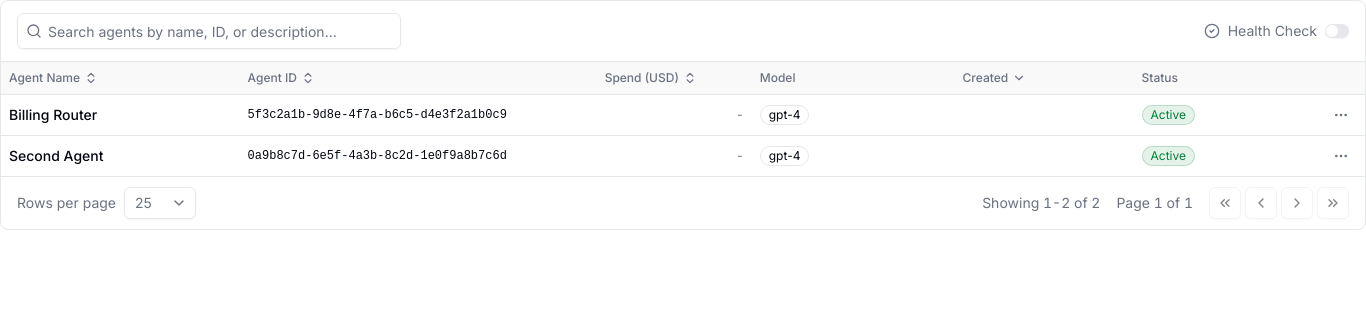
Scenario: AgentsTable › filters agents by a pasted agent_id so only that agent's row survives
Step 1. Click the field with placeholder "Search agents by name, ID, or description..." → point(221, 31), box x1=42 y1=13 x2=400 y2=49
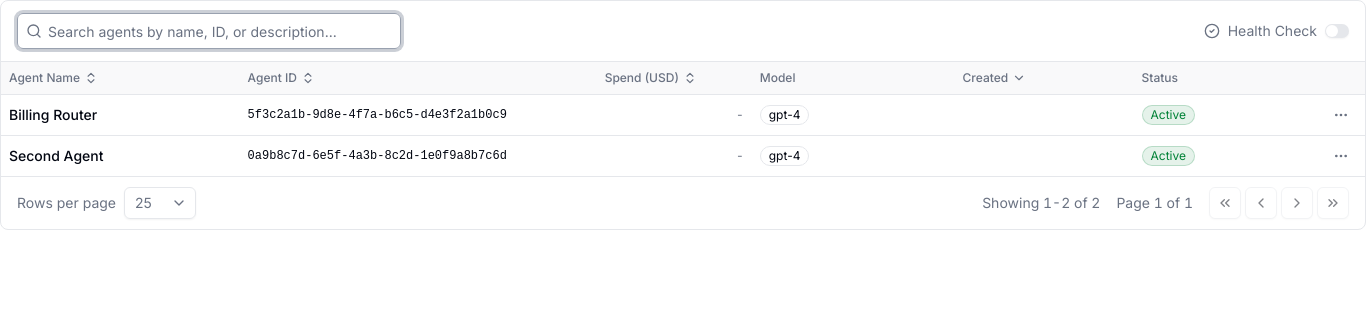
Step 2. Type keys "5f3c2a1b-9d8e-4f7a-b6c5-d4e3f2a1b0c9"
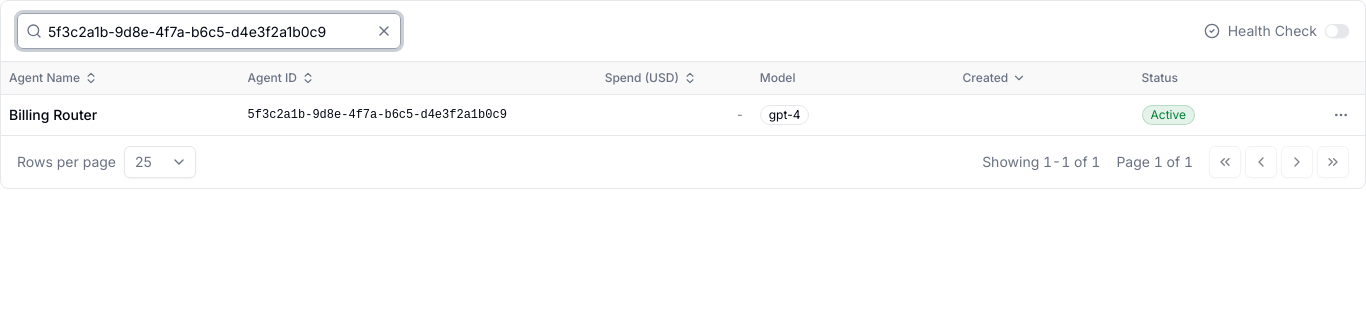
expect the text "Billing Router" is shown: met, box x1=9 y1=106 x2=97 y2=122
expect the text "Second Agent" is gone: met
Step 3. Clear the field with placeholder "Search agents by name, ID, or description..." → point(207, 31), box x1=42 y1=13 x2=372 y2=49
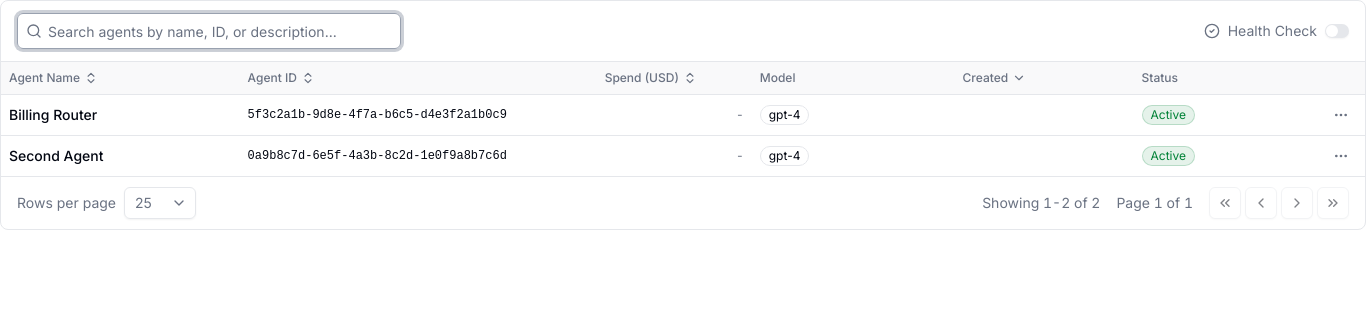
Step 4. Type keys "ffffffff-0000-4000-8000-000000000000"
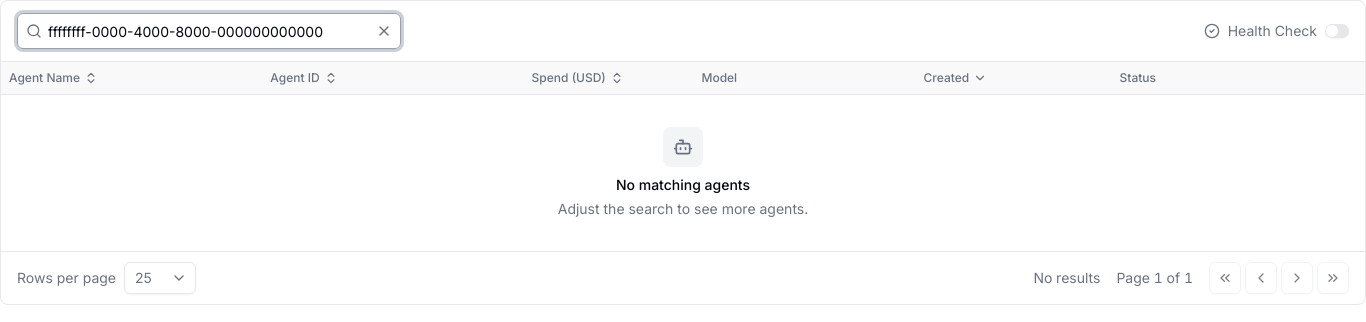
expect the text "Billing Router" is gone: met
expect the text "Second Agent" is gone: met
expect the text "No matching agents" is shown: met, box x1=616 y1=174 x2=750 y2=194
